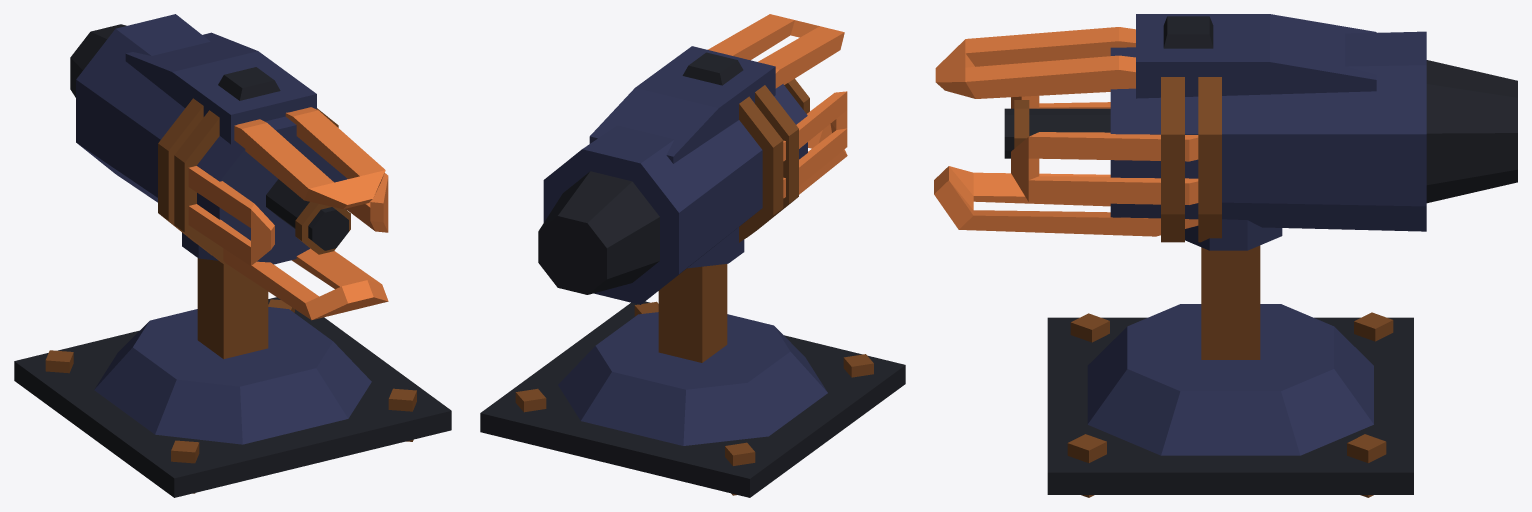
File: Shocker2_Scifi.fbx
The picture shows the model from 3 angles, left to right: view 1: azimuth 30°, elevation 25°; view 2: azimuth 150°, elevation 25°; view 3: azimuth 270°, elevation 25°; orthographic projection. The views are drawn at different scales.
Visible parts, largest first — view 1: Shocker2.2, Shocker2.1; view 2: Shocker2.2, Shocker2.1; view 3: Shocker2.2, Shocker2.1.
Part boxes in pixels (x1,y1,x2,y2): Shocker2.2: [70, 14, 388, 320]; Shocker2.1: [14, 258, 451, 497]; Shocker2.2: [538, 14, 847, 304]; Shocker2.1: [480, 264, 905, 497]; Shocker2.2: [934, 14, 1517, 250]; Shocker2.1: [1047, 245, 1413, 497].
Bounding box in the file's own units: 83.11 × 132 × 101.
